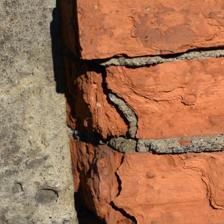Crack: (36, 15, 107, 127), (11, 1, 82, 74)
